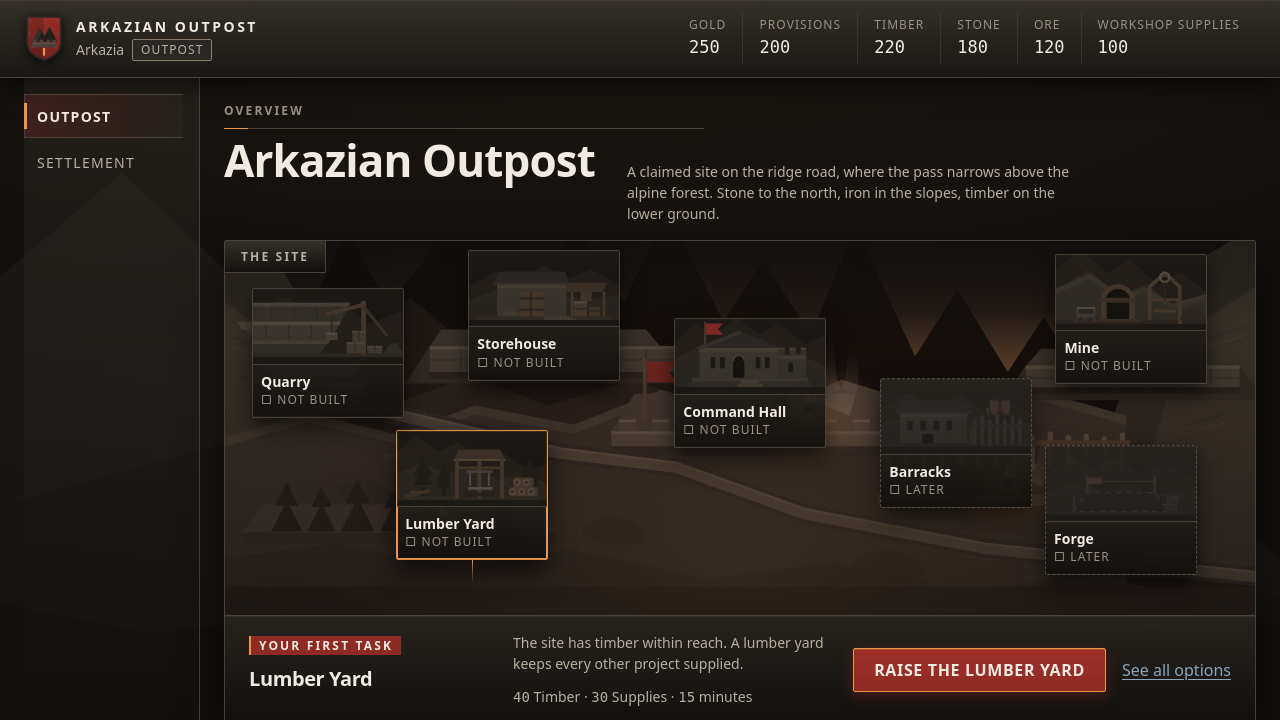
Test case: Construction — the confirm screen › states the cost, what it leaves, when it finishes, and that it cannot be undone
This screenshot has width=1280, height=720.
Click the button "Raise the Lumber Yard" at (980, 670), box top-left (853, 648), bottom-right (1106, 692)
(page scrolled)
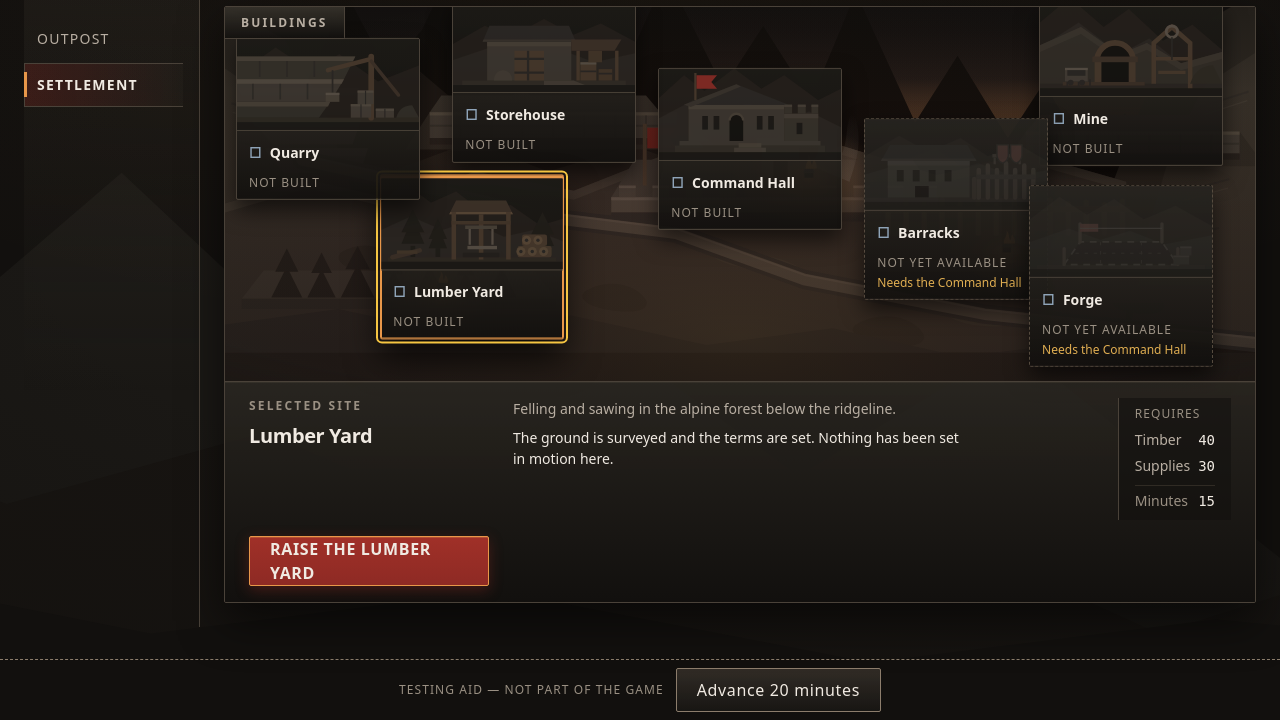
Click the link "Raise the Lumber Yard" at (369, 562), box top-left (249, 536), bottom-right (489, 586)
(page scrolled)
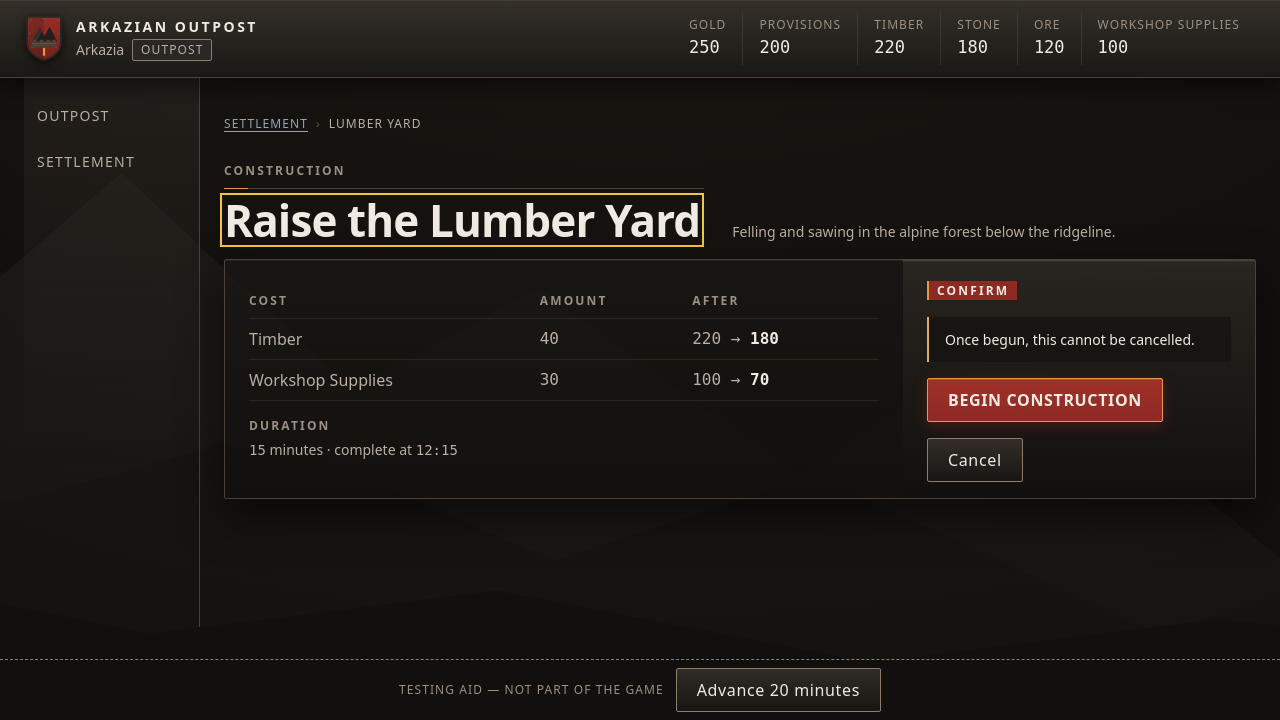
Expected: the text "220" is shown, top-left (692, 329), bottom-right (721, 348)
Expected: the text "180" in the row of "40" is shown, top-left (750, 329), bottom-right (779, 348)
Expected: the text "Duration 15 minutes · complete at 12:15" is shown, top-left (249, 417), bottom-right (458, 459)
